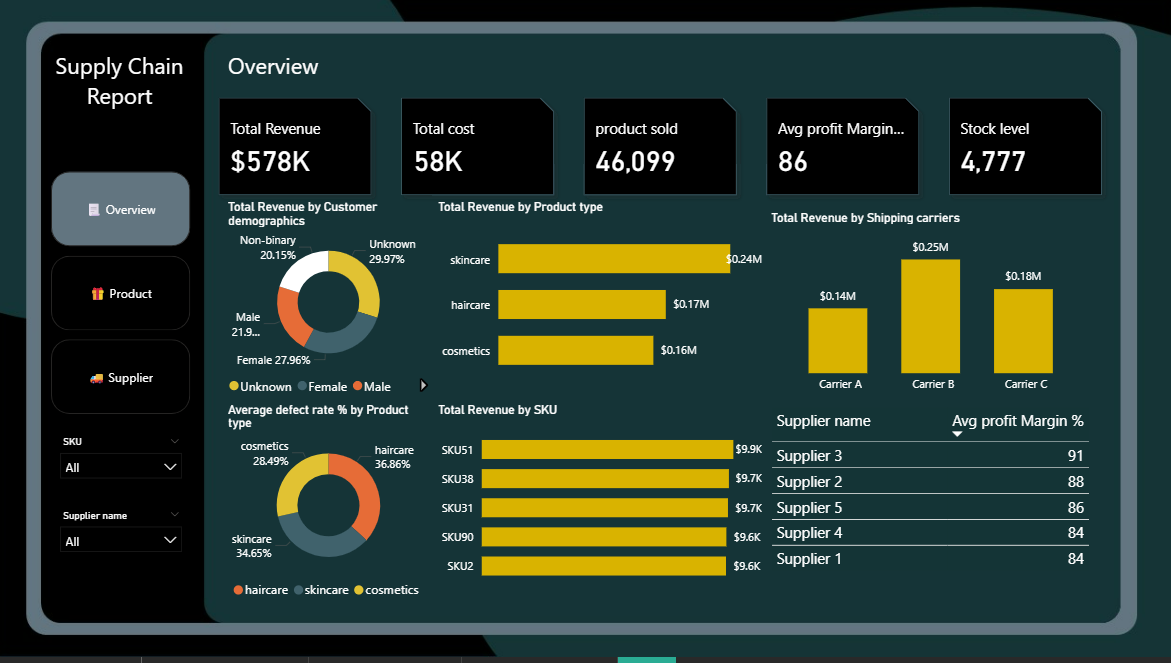

This screenshot's page, from the dashboard's own definition file:
{"tool":"powerbi","page":{"name":"📃 Overview","canvas":[1280,720],"ordinal":0},"visuals":[{"type":"cardVisual","fields":{"Data":["_Measures.Total Revenue","_Measures.Total cost","_Measures.Sum of product sold","_Measures.Avg profit Margin %","_Measures.Stock level"]},"box":[226.9,95.9,996.9,140.6],"z":0},{"type":"donutChart","fields":{"Y":["_Measures.Total Revenue"],"Category":["supply_chain_data.Customer demographics"]},"box":[249.2,223.7,226.9,220.5],"z":1000},{"type":"donutChart","fields":{"Y":["_Measures.Average defect rate %"],"Category":["supply_chain_data.Product type"]},"box":[249.2,444.2,226.9,222.1],"z":2000},{"type":"clusteredBarChart","fields":{"Y":["_Measures.Total Revenue"],"Category":["supply_chain_data.Product type"]},"box":[476.1,223.7,361.1,206.1],"z":3000},{"type":"clusteredBarChart","fields":{"Y":["_Measures.Total Revenue"],"Category":["supply_chain_data.SKU"]},"box":[476.1,444.2,361.1,206.1],"z":4000},{"type":"columnChart","fields":{"Y":["_Measures.Total Revenue"],"Category":["supply_chain_data.Shipping carriers"]},"box":[837.2,236.5,361.1,206.1],"z":5000},{"type":"tableEx","fields":{"Values":["supply_chain_data.Supplier name","_Measures.Avg profit Margin %"]},"box":[837.2,444.2,361.1,198.1],"z":6000},{"type":"textbox","box":[249.2,57.5,423.4,51.1],"z":7000},{"type":"pageNavigator","box":[62.3,194.9,151.8,263.6],"z":7001,"group":"g1"},{"type":"slicer","fields":{"Values":["supply_chain_data.SKU"]},"box":[62.3,476.1,151.8,79.9],"z":7002,"group":"g1"},{"type":"slicer","fields":{"Values":["supply_chain_data.Supplier name"]},"box":[62.3,556,151.8,110.2],"z":7003,"group":"g1"},{"type":"textbox","box":[60.7,57.5,151.8,121.4],"z":7004,"group":"g1"},{"type":"group","id":"g1","title":"Group 1","box":[60.7,57.5,153.4,608.7],"z":7005}]}

Visuals, with their boxes in screenshot pixels (x1, y1, x2, y2), scaled from the page's 1280x720 canvas onto the 1171x663 screenshot:
cardVisual - _Measures.Total Revenue x _Measures.Total cost: bbox=(208, 88, 1120, 218)
donutChart - _Measures.Total Revenue x supply_chain_data.Customer demographics: bbox=(228, 206, 436, 409)
donutChart - _Measures.Average defect rate % x supply_chain_data.Product type: bbox=(228, 409, 436, 614)
clusteredBarChart - _Measures.Total Revenue x supply_chain_data.Product type: bbox=(436, 206, 766, 396)
clusteredBarChart - _Measures.Total Revenue x supply_chain_data.SKU: bbox=(436, 409, 766, 599)
columnChart - _Measures.Total Revenue x supply_chain_data.Shipping carriers: bbox=(766, 218, 1096, 408)
tableEx - supply_chain_data.Supplier name x _Measures.Avg profit Margin %: bbox=(766, 409, 1096, 591)
textbox: bbox=(228, 53, 615, 100)
pageNavigator: bbox=(57, 179, 196, 422)
slicer - supply_chain_data.SKU: bbox=(57, 438, 196, 512)
slicer - supply_chain_data.Supplier name: bbox=(57, 512, 196, 613)
textbox: bbox=(56, 53, 194, 165)
"Group 1" group: bbox=(56, 53, 196, 613)
